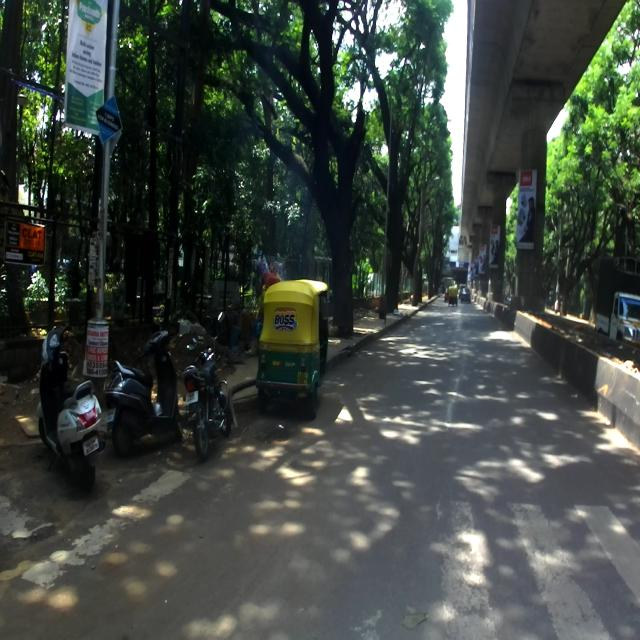auto ahead at: (260, 274, 332, 416)
electric pole ahead at: (81, 0, 128, 360)
motorcycle ahead at: (29, 316, 109, 488), (182, 309, 243, 464)
tree ahead at: (321, 78, 368, 343)
